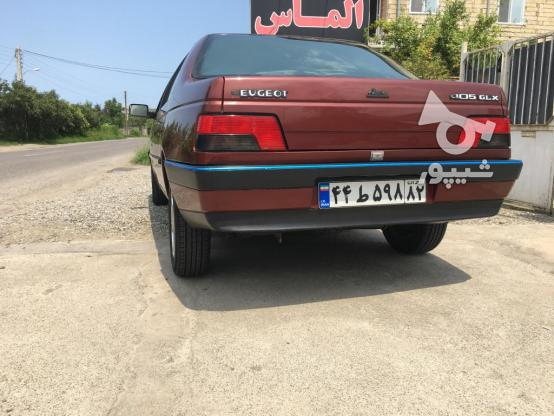car: (318, 177, 427, 209)
